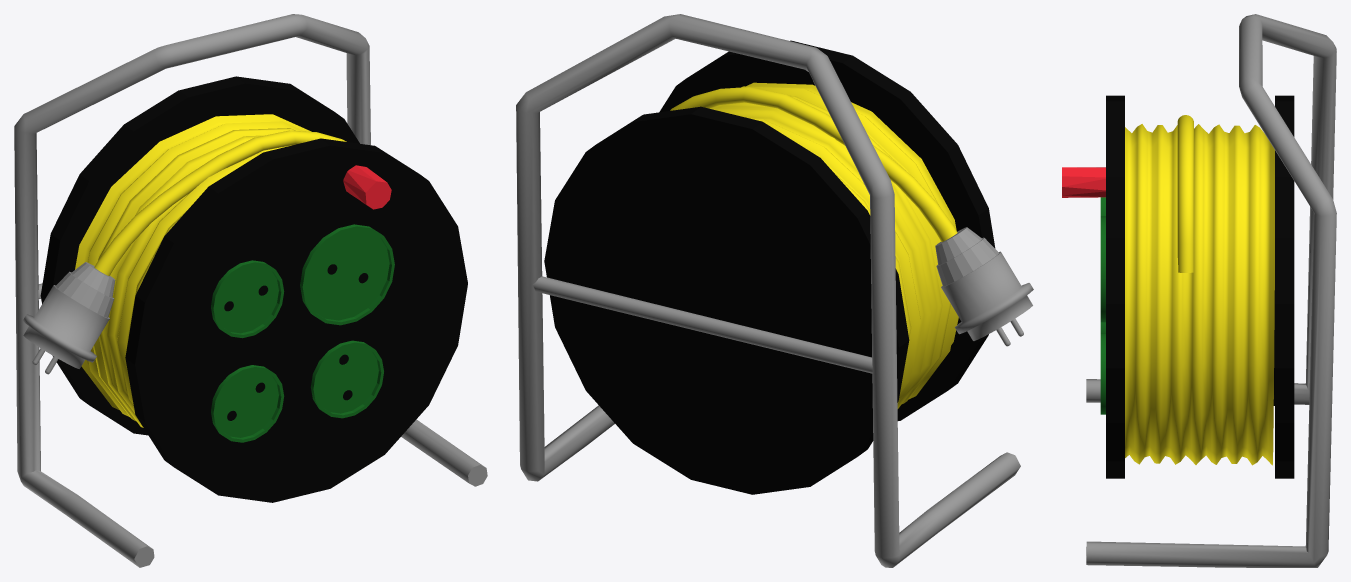
Rendered from kabeltrommel.FBX.
3 renders of one model, left to right at view 1: azimuth 30°, elevation 25°; view 2: azimuth 150°, elevation 25°; view 3: azimuth 270°, elevation 25°, orthographic. The views are drawn at different scales.
Visible parts, largest first — view 1: CableDrum, Eingerollt, Anschluss380, Anschluss222, Anschluss221, Anschluss220; view 2: CableDrum, Eingerollt; view 3: Eingerollt, CableDrum, Anschluss380, Anschluss222.
Boxes of the visible parts, x1,y1,x2,y2 form: CableDrum: (14,14,487,567); Eingerollt: (23,114,346,427); Anschluss380: (300,224,394,325); Anschluss222: (310,340,383,418); Anschluss221: (211,365,284,442); Anschluss220: (211,260,284,338); CableDrum: (516,14,1020,567); Eingerollt: (670,82,1033,408); Eingerollt: (1125,115,1274,465); CableDrum: (1062,14,1336,567); Anschluss380: (1100,216,1105,322); Anschluss222: (1100,333,1105,414).
Bounding box in the file's own units: 44.91 × 46.07 × 26.13.
